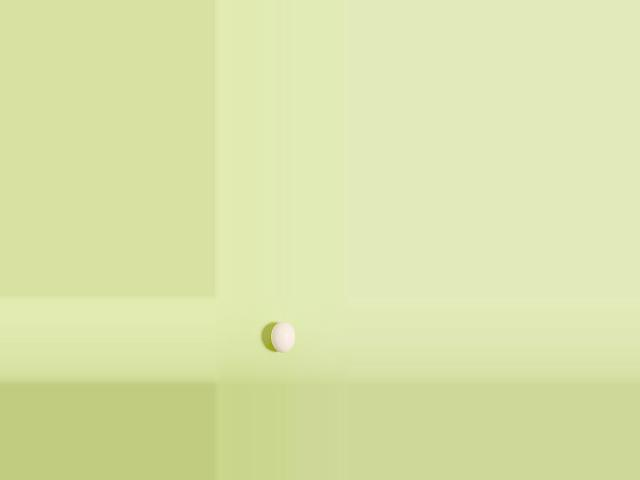egg: (270, 322, 293, 353)
